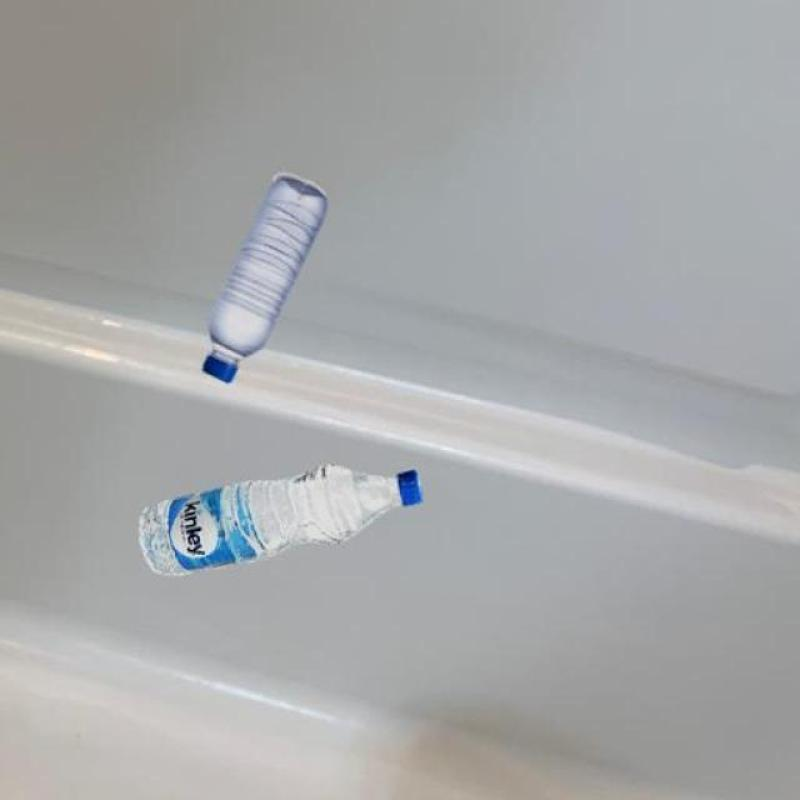botella: (139, 463, 421, 579), (203, 174, 328, 384)
